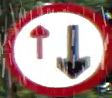Two way: (6, 2, 111, 96)
